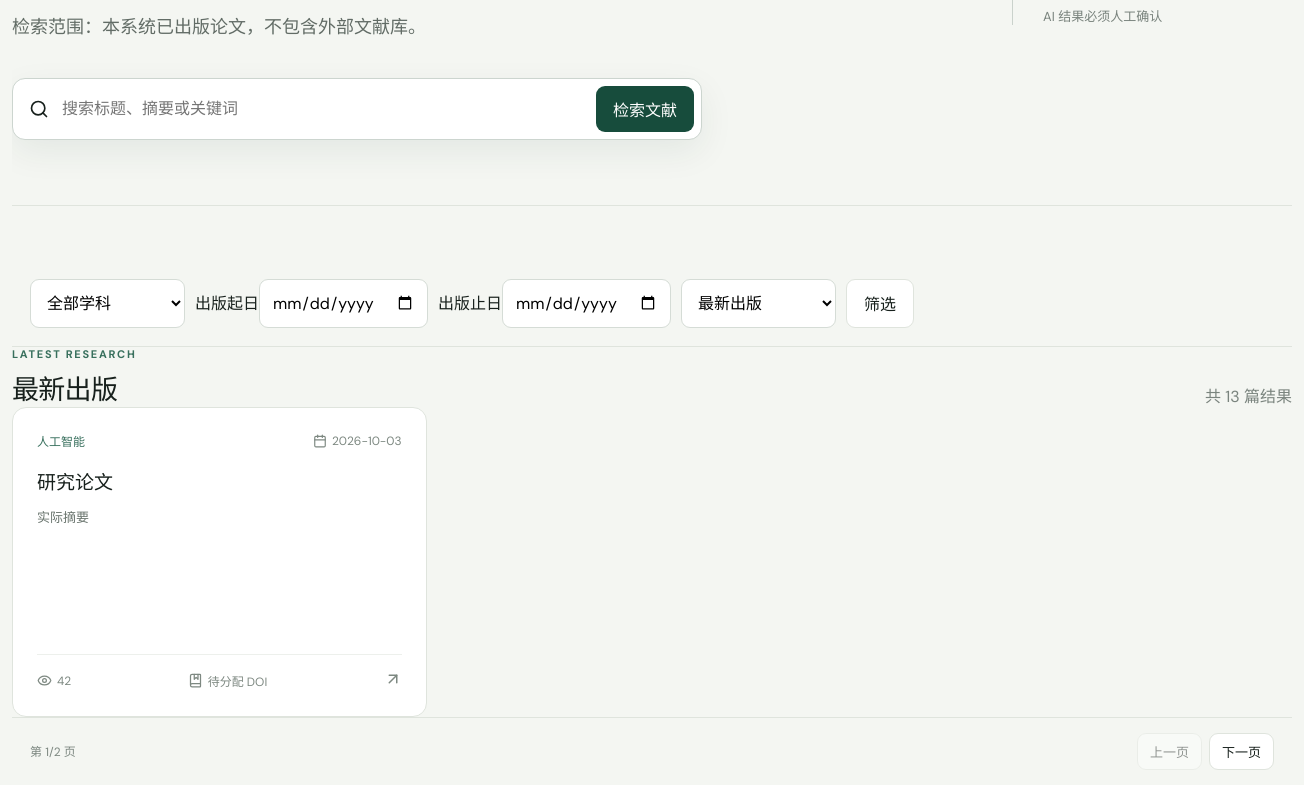
Test: published list page › renders database list values and requests the next page
(page scrolled)
Click the button "下一页".
click(1242, 751)  # box [1209,733,1274,770]
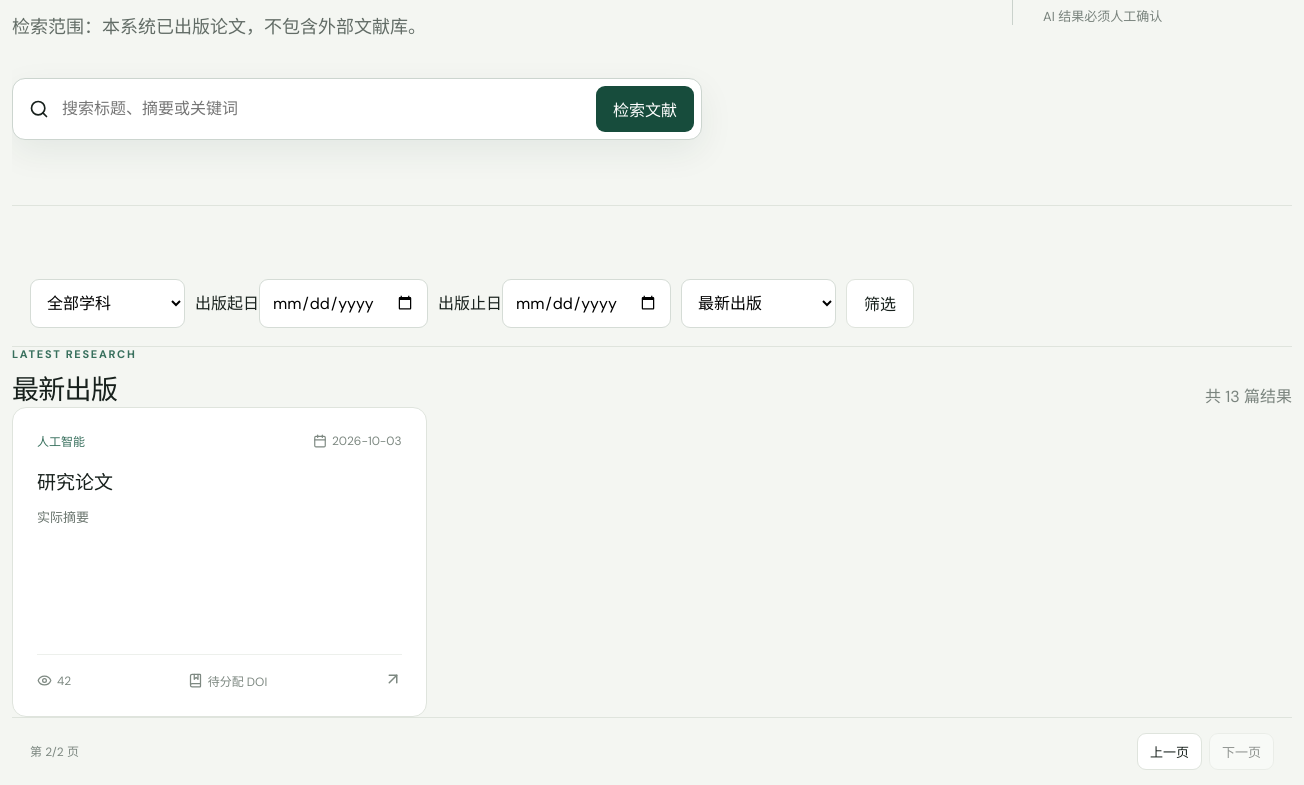
Now the button "下一页" is disabled, box [1209,733,1274,770]
